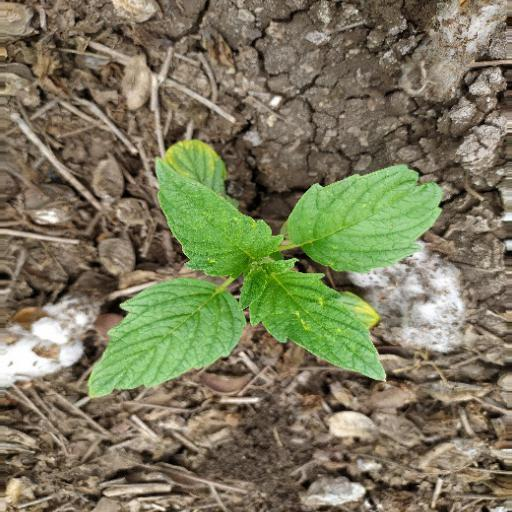crop: (82, 123, 446, 420)
